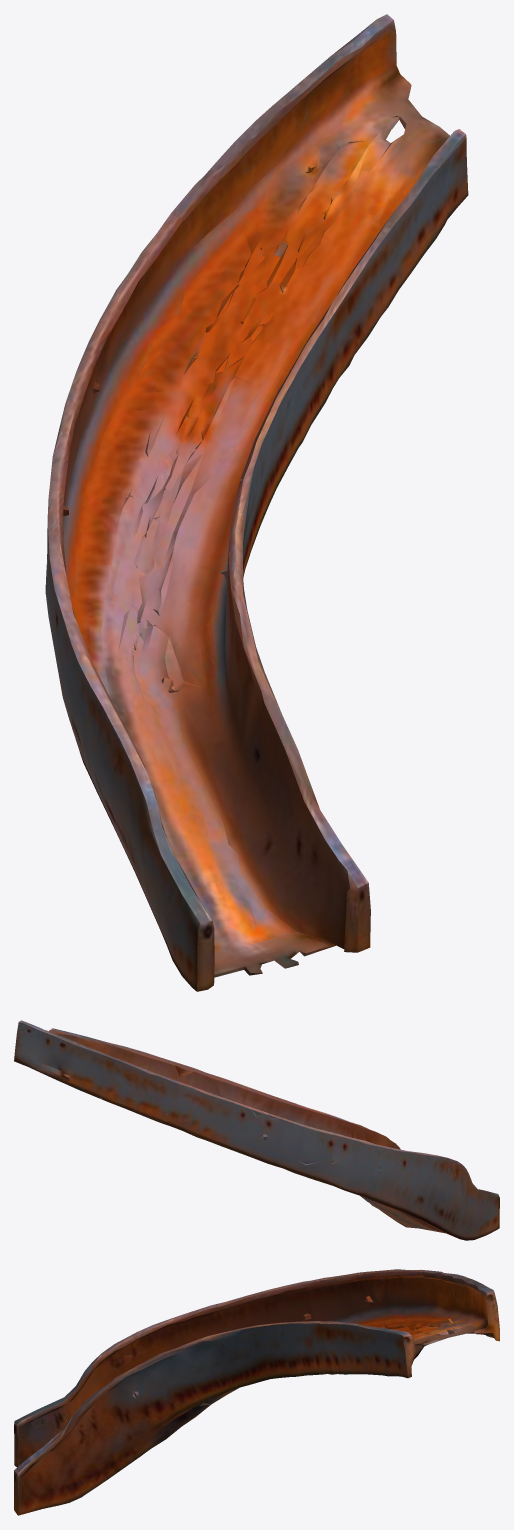
File: debris_ibeam.glb
The picture shows the model from 3 angles, top to bottom: view 1: azimuth 30°, elevation 25°; view 2: azimuth 150°, elevation 25°; view 3: azimuth 270°, elevation 25°; orthographic projection. The views are drawn at different scales.
Visible parts, largest first — view 1: debris_ibeam; view 2: debris_ibeam; view 3: debris_ibeam.
Boxes of the visible parts, left/top/right/bottom form: debris_ibeam: left=45, top=14, right=468, bottom=991; debris_ibeam: left=14, top=1020, right=499, bottom=1240; debris_ibeam: left=14, top=1269, right=499, bottom=1515.
Bounding box in the file's own units: 3.47 × 3.14 × 4.
Materials: 1 (1 with a texture image).
